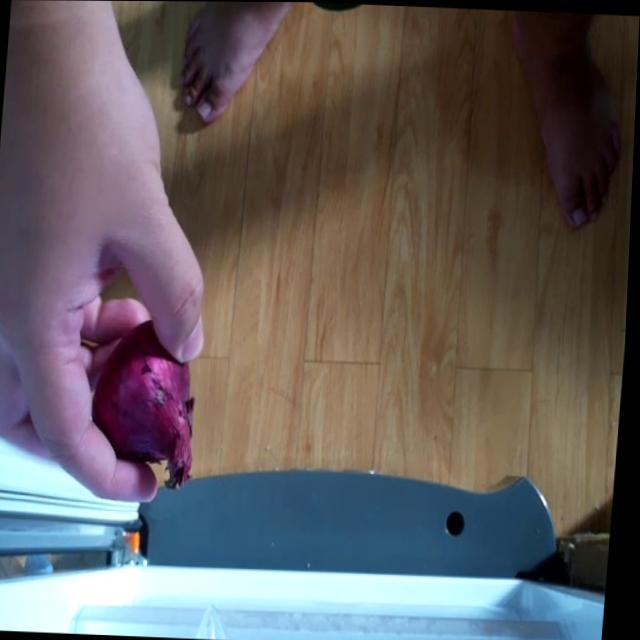onion: (89, 321, 206, 488)
